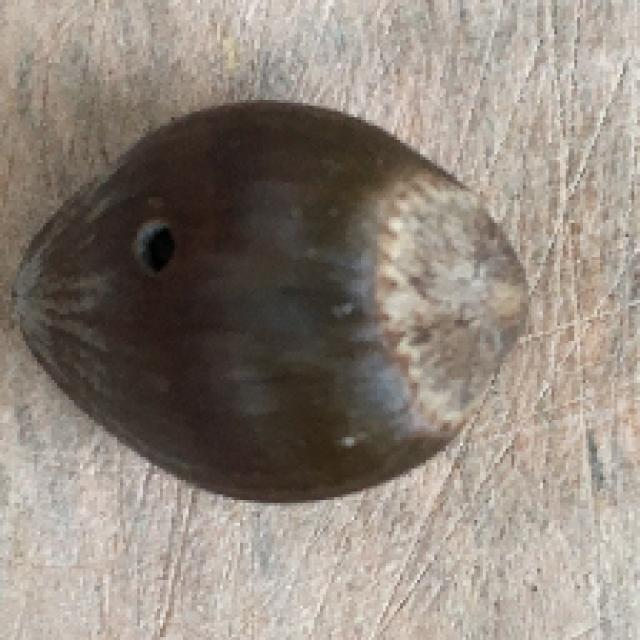damagedHazelnut: (20, 98, 536, 506)
